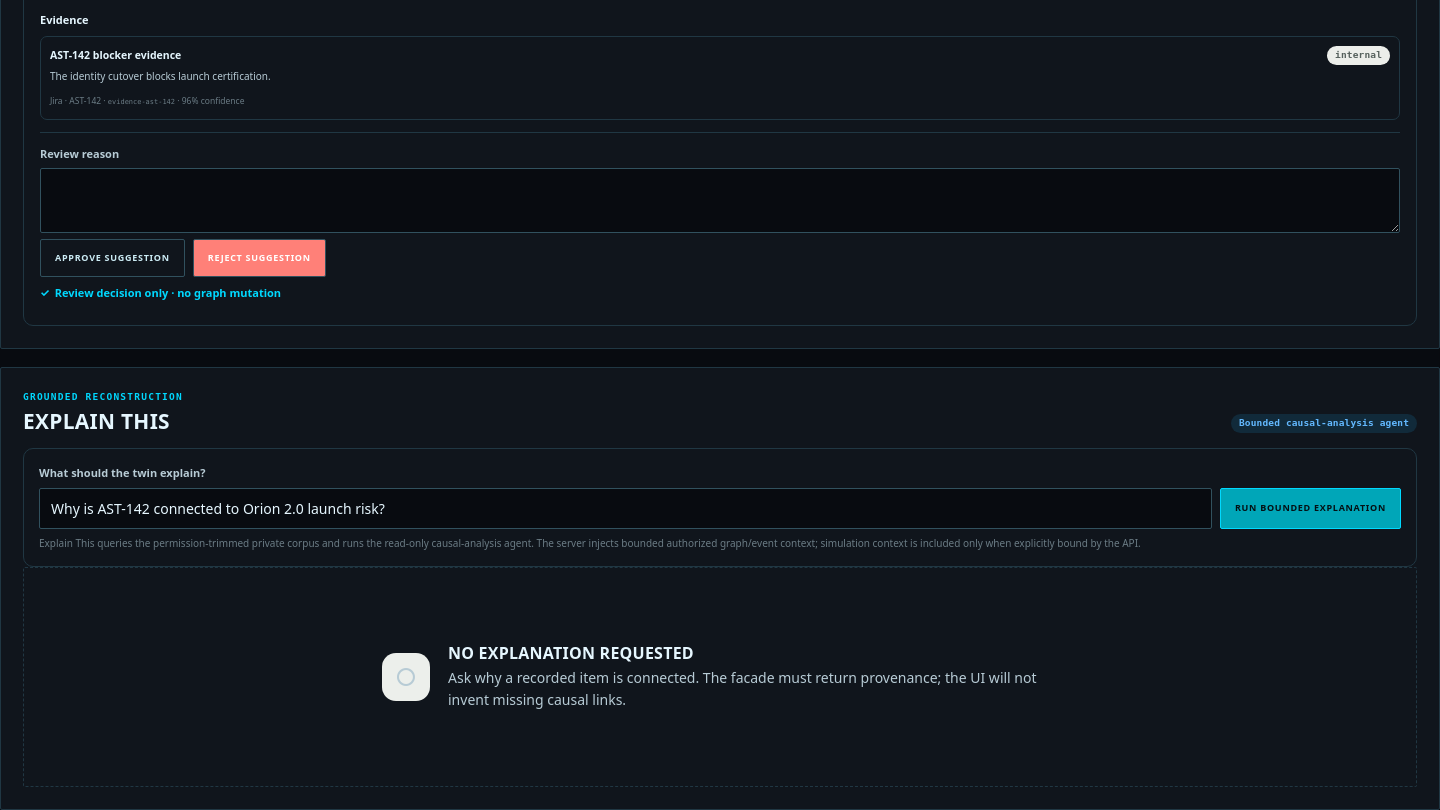
Test: AIControlCenter › runs a real bounded explanation flow and displays returned chain, evidence, nodes, and limitations
(page scrolled)
Step 1. Click the button "Run bounded explanation" → (1310, 509), box x1=1220 y1=488 x2=1401 y2=529
(page scrolled)
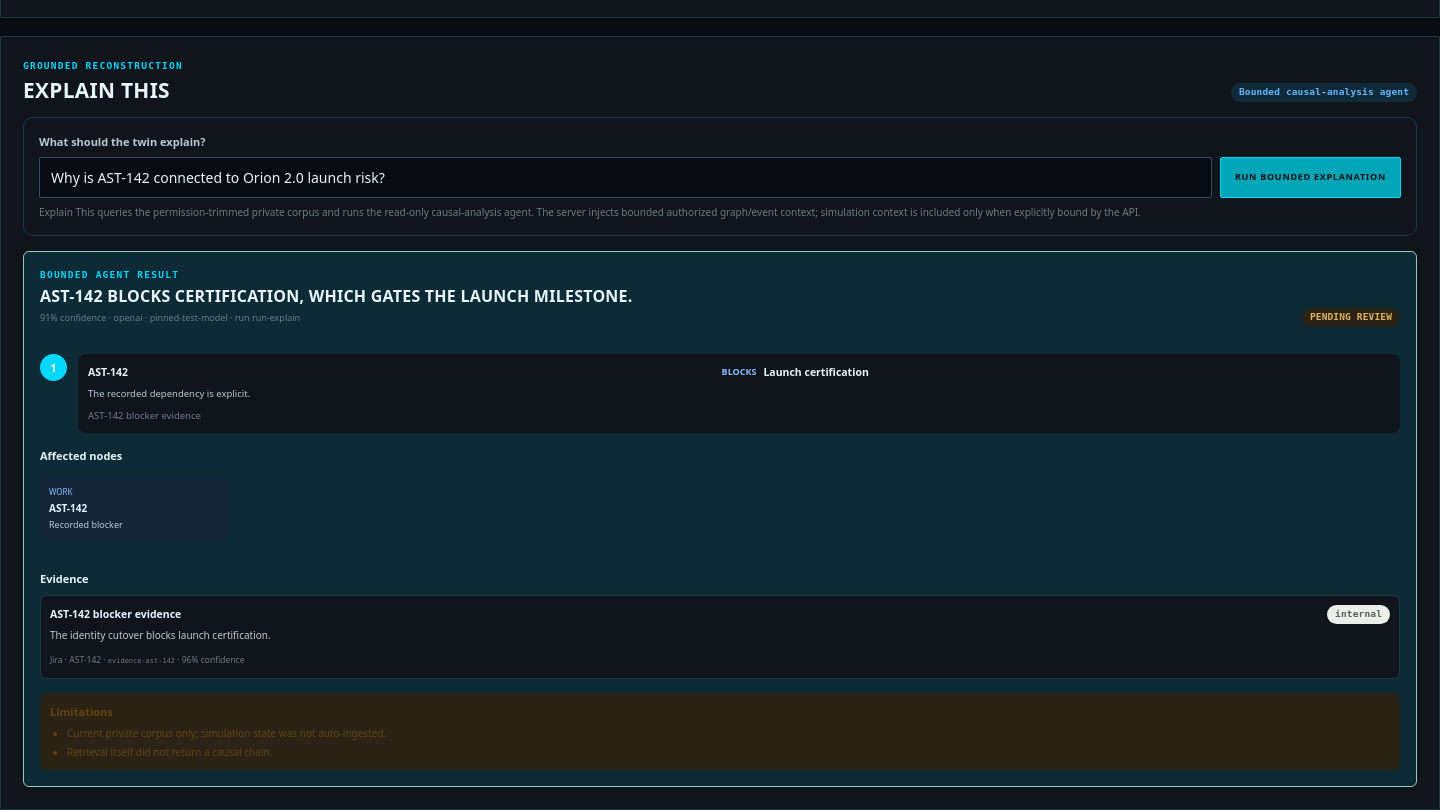
Now the heading "AST-142 blocks certification, which gates the launch milestone." is shown, box x1=40 y1=287 x2=633 y2=305
Now the list named "Causal chain" shows "BLOCKS", box x1=722 y1=365 x2=756 y2=378
Now the text "Recorded blocker" is shown, box x1=49 y1=518 x2=123 y2=531
